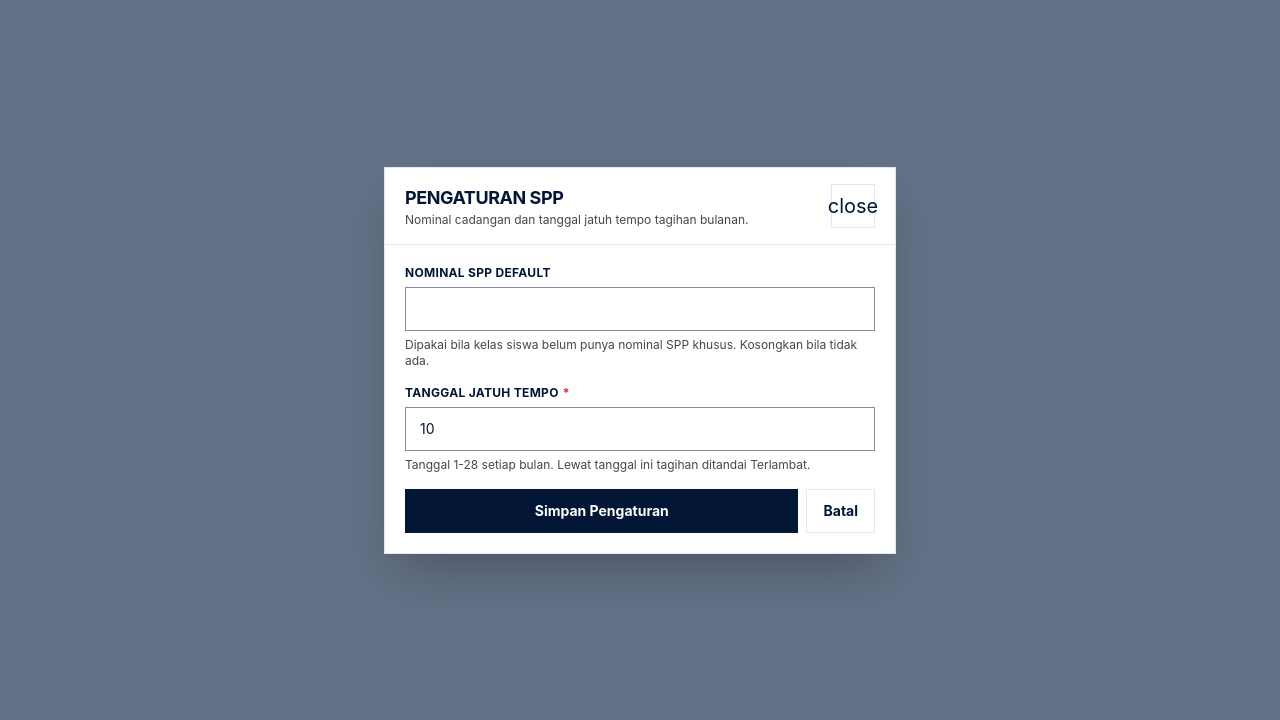
SppSettingsModal › menolak tanggal jatuh tempo di luar 1-28 tanpa memanggil API
Replace the text in the number field labelled "Tanggal jatuh tempo*" with "31": (640, 428) [405,406,875,450]
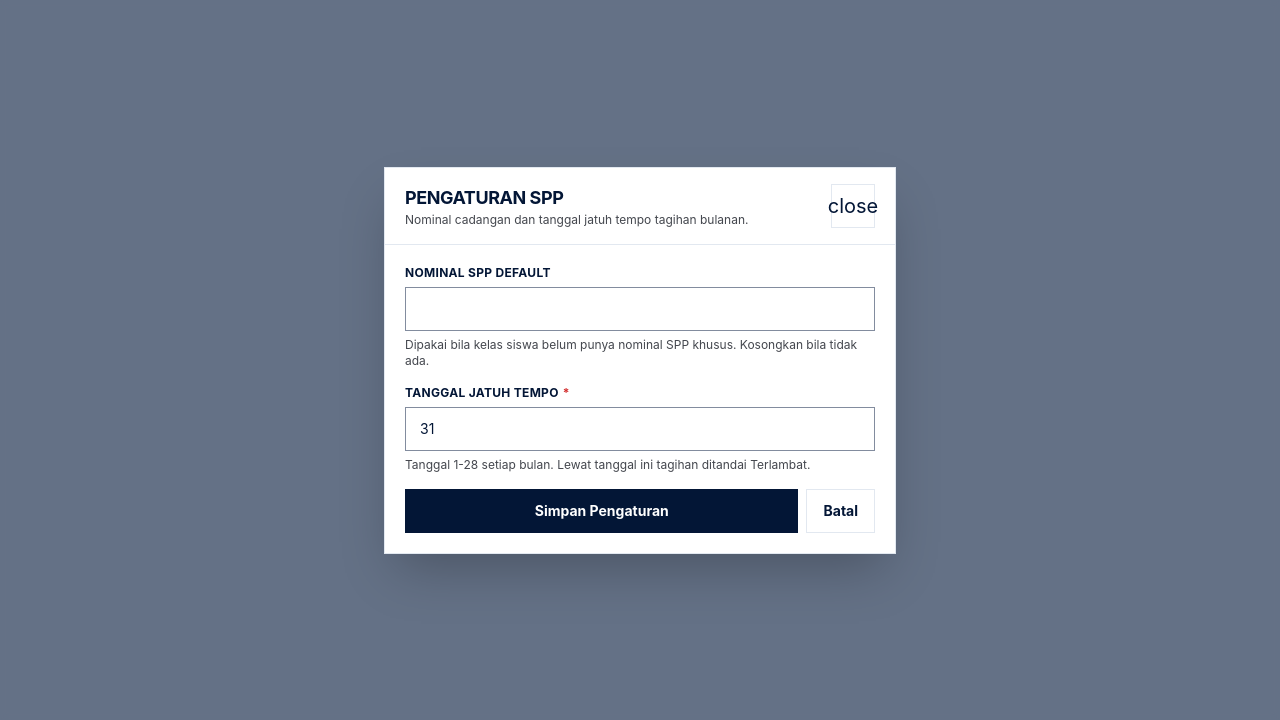
Click the button "Simpan Pengaturan": click(602, 510) [405,488,798,532]
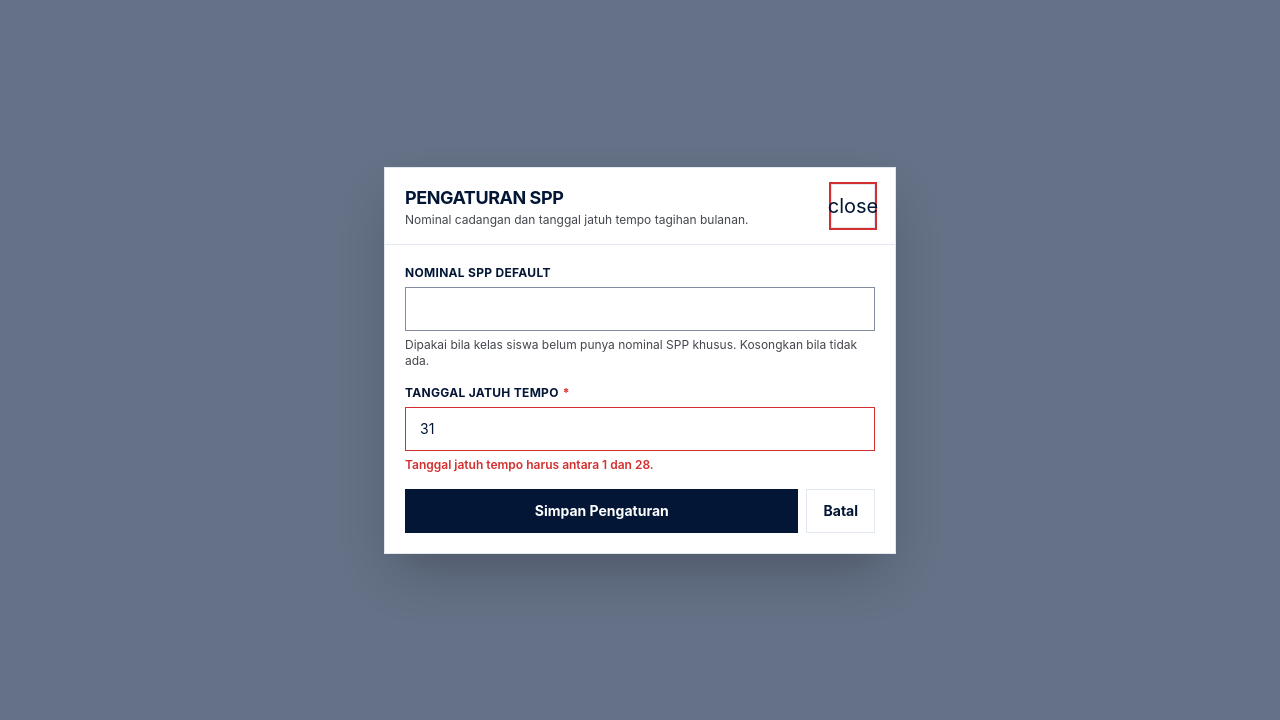
expect the text "Tanggal jatuh tempo harus antara 1 dan 28." is shown: met, box [405,456,654,472]
